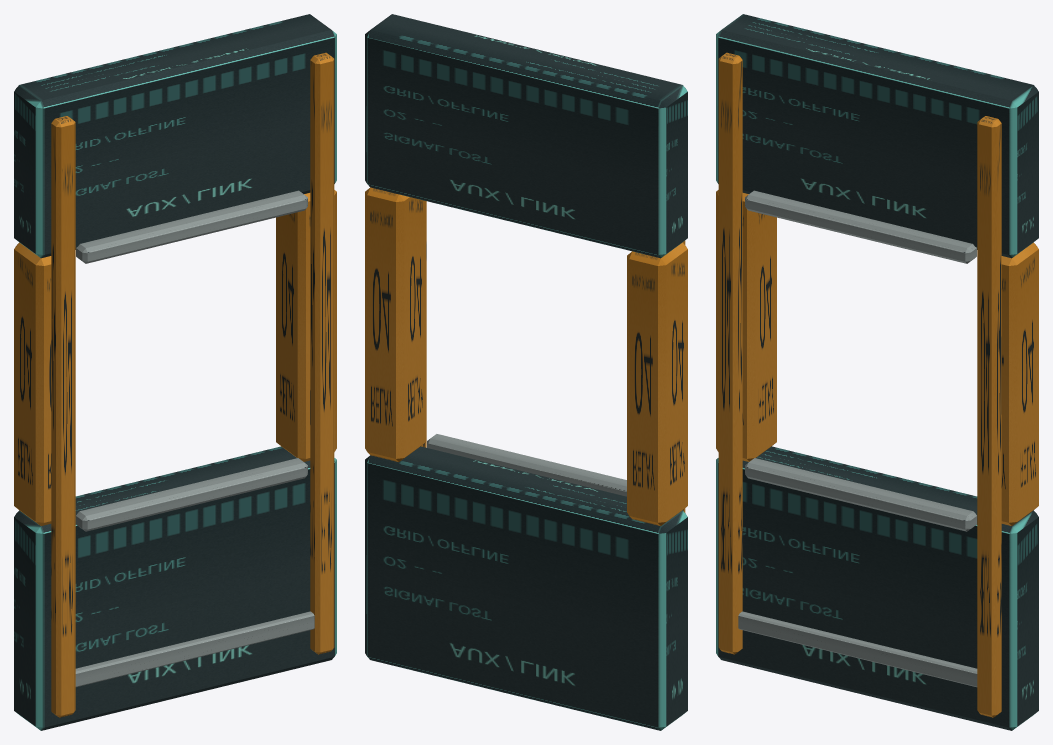
Rendered from wall_window_2m_LOD1.obj.
The picture shows the model from 3 angles, left to right: view 1: azimuth 30°, elevation 25°; view 2: azimuth 150°, elevation 25°; view 3: azimuth 330°, elevation 25°; orthographic projection.
Parts seen in each view (by area): view 1: L02_wall_window_2m_LOD1; view 2: L02_wall_window_2m_LOD1; view 3: L02_wall_window_2m_LOD1.
Boxes of the visible parts, x1,y1,x2,y2 form: L02_wall_window_2m_LOD1: (14, 14, 336, 730); L02_wall_window_2m_LOD1: (365, 14, 687, 730); L02_wall_window_2m_LOD1: (716, 14, 1038, 730).
Size of the model in its own units: 2 by 4 by 0.41.
Materials: 1 (1 with a texture image).
